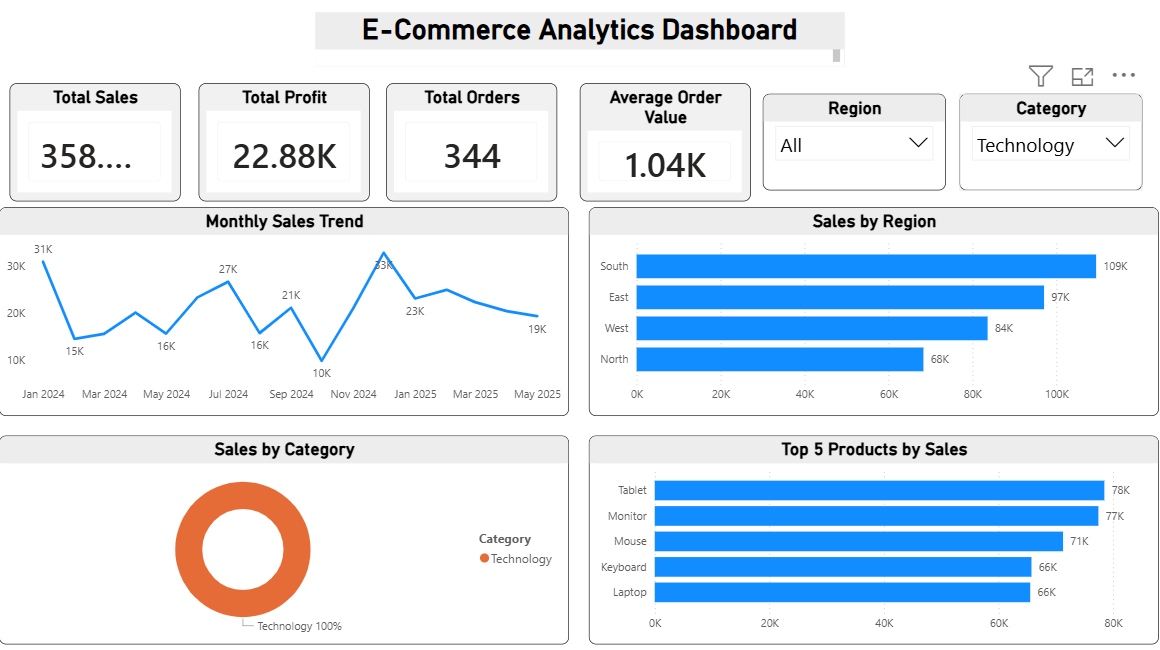

The dashboard page shown, as its layout file describes it:
{"tool":"powerbi","page":{"name":"Executive Overview","canvas":[1280,720],"ordinal":0},"visuals":[{"type":"cardVisual","title":"Total Sales","fields":{"Data":["Ecommerce_Data.Total Sales"]},"box":[11.7,91.7,188.3,130],"z":0},{"type":"cardVisual","title":"Average Order Value","fields":{"Data":["Ecommerce_Data.Average Order Value"]},"box":[640,91.7,188.3,130],"z":1000},{"type":"cardVisual","title":"Total Orders","fields":{"Data":["Ecommerce_Data.Total Orders"]},"box":[426.7,91.7,188.3,130],"z":2000},{"type":"cardVisual","title":"Total Profit","fields":{"Data":["Ecommerce_Data.Total Profit"]},"box":[220,91.7,188.3,130],"z":3000},{"type":"lineChart","title":"Monthly Sales Trend","fields":{"Y":["Ecommerce_Data.Total Sales"],"Category":["Ecommerce_Data.Order Date.Variation.Date Hierarchy.Year","Ecommerce_Data.Order Date.Variation.Date Hierarchy.Month"]},"box":[0,228.3,628.3,230],"z":4000},{"type":"clusteredBarChart","title":"Sales by Region","fields":{"Category":["Ecommerce_Data.Region"],"Y":["Ecommerce_Data.Total Sales"]},"box":[650,228.3,628.3,230],"z":5000},{"type":"donutChart","title":"Sales by Category","fields":{"Category":["Ecommerce_Data.Category"],"Y":["Ecommerce_Data.Total Sales"]},"box":[0,480,628.3,230],"z":6000},{"type":"slicer","title":"Region","fields":{"Values":["Ecommerce_Data.Region"]},"box":[841.7,103.3,201.7,106.7],"z":7000},{"type":"slicer","title":"Category","fields":{"Values":["Ecommerce_Data.Category"]},"box":[1058.3,103.3,201.7,106.7],"z":8000},{"type":"clusteredBarChart","title":"Top 5 Products by Sales","fields":{"Category":["Ecommerce_Data.Product Name"],"Y":["Ecommerce_Data.Total Sales"]},"box":[650,480,628.3,230],"z":9000},{"type":"textbox","title":"E-Commerce Analytics Dashboard","box":[348.3,13.3,583.3,60],"z":10000}]}

Visuals, with their boxes in screenshot pixels (x1, y1, x2, y2), scaled from the page's 1280x720 canvas onto the 1160x650 screenshot:
"Total Sales" cardVisual: box=[11, 83, 181, 200]
"Average Order Value" cardVisual: box=[580, 83, 751, 200]
"Total Orders" cardVisual: box=[387, 83, 557, 200]
"Total Profit" cardVisual: box=[199, 83, 370, 200]
"Monthly Sales Trend" lineChart: box=[0, 206, 569, 414]
"Sales by Region" clusteredBarChart: box=[589, 206, 1158, 414]
"Sales by Category" donutChart: box=[0, 433, 569, 641]
"Region" slicer: box=[763, 93, 946, 190]
"Category" slicer: box=[959, 93, 1142, 190]
"Top 5 Products by Sales" clusteredBarChart: box=[589, 433, 1158, 641]
"E-Commerce Analytics Dashboard" textbox: box=[316, 12, 844, 66]
